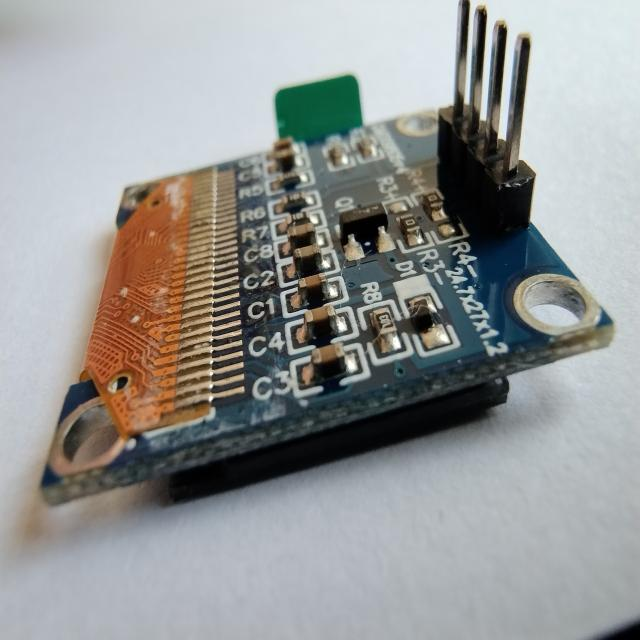oled: (39, 0, 629, 556)
